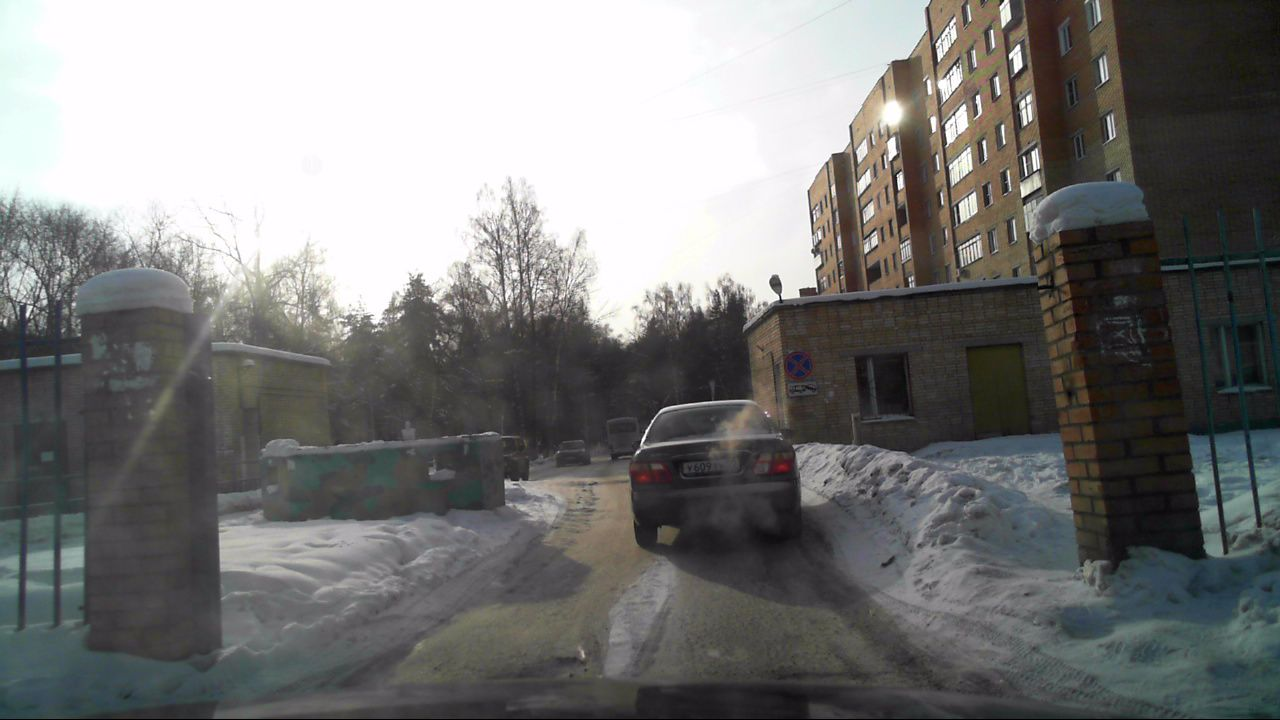No Parking: (784, 352, 812, 379)
